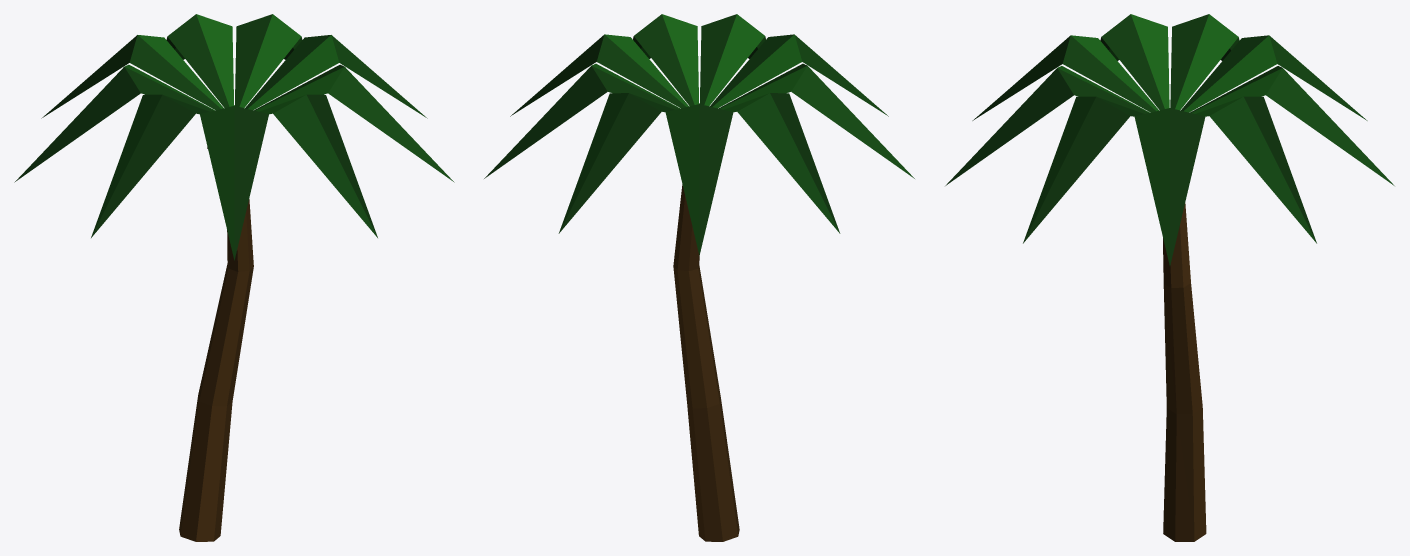
The model's file is SM_Palm.fbx.
3 renders of one model, left to right at view 1: azimuth 30°, elevation 25°; view 2: azimuth 150°, elevation 25°; view 3: azimuth 270°, elevation 25°, orthographic. The views are drawn at different scales.
Visible parts, largest first — view 1: SM_Palm • FBX; view 2: SM_Palm • FBX; view 3: SM_Palm • FBX.
Boxes of the visible parts, <box> form: SM_Palm • FBX: <box>14,14,454,541</box>; SM_Palm • FBX: <box>484,14,914,541</box>; SM_Palm • FBX: <box>945,14,1394,541</box>.
Size of the model in its own units: 601 by 611 by 728.
